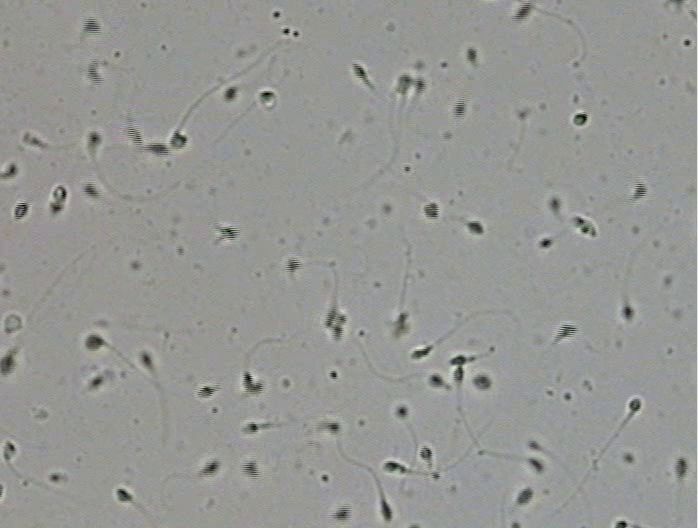S: (571, 217, 597, 238), (512, 2, 531, 22), (332, 314, 346, 341), (87, 64, 104, 85), (84, 334, 105, 351), (82, 17, 101, 35), (127, 125, 143, 146), (241, 461, 259, 478), (201, 460, 219, 476), (331, 506, 350, 521), (1, 355, 15, 375), (393, 313, 407, 333), (674, 458, 688, 478), (148, 143, 169, 156), (411, 346, 432, 359), (556, 325, 577, 338), (170, 132, 187, 148), (517, 488, 533, 505), (474, 375, 492, 390), (397, 75, 412, 93), (632, 182, 647, 200), (220, 226, 239, 240), (380, 500, 392, 522), (3, 441, 16, 461), (423, 203, 439, 219), (352, 63, 367, 80), (52, 185, 67, 202), (14, 202, 28, 220), (324, 308, 337, 327), (285, 258, 302, 272), (116, 488, 133, 502), (245, 382, 264, 394), (528, 458, 544, 472), (197, 386, 215, 398), (84, 183, 99, 197), (420, 446, 433, 462), (428, 374, 444, 387), (468, 222, 484, 235), (140, 351, 152, 368), (449, 355, 467, 366), (325, 421, 340, 434), (573, 113, 588, 126), (453, 365, 464, 382), (454, 101, 465, 118), (87, 132, 100, 146), (243, 423, 259, 434), (224, 87, 237, 100), (88, 377, 103, 388), (383, 461, 398, 472), (259, 91, 275, 101), (415, 77, 425, 93), (241, 371, 251, 387), (629, 398, 641, 411), (49, 202, 63, 213), (622, 306, 633, 320), (6, 164, 17, 177), (538, 239, 552, 249), (466, 49, 476, 63), (396, 407, 407, 419), (550, 198, 560, 210), (529, 441, 539, 450), (615, 521, 627, 528)
